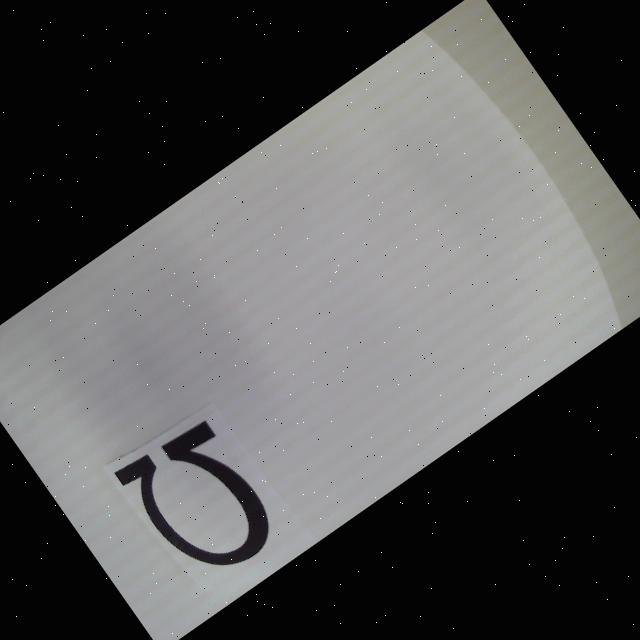OMEGA: (113, 411, 284, 594)
